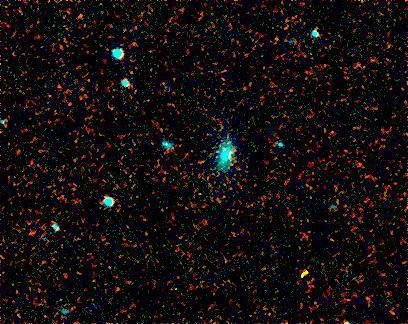star: (288, 257, 318, 287)
